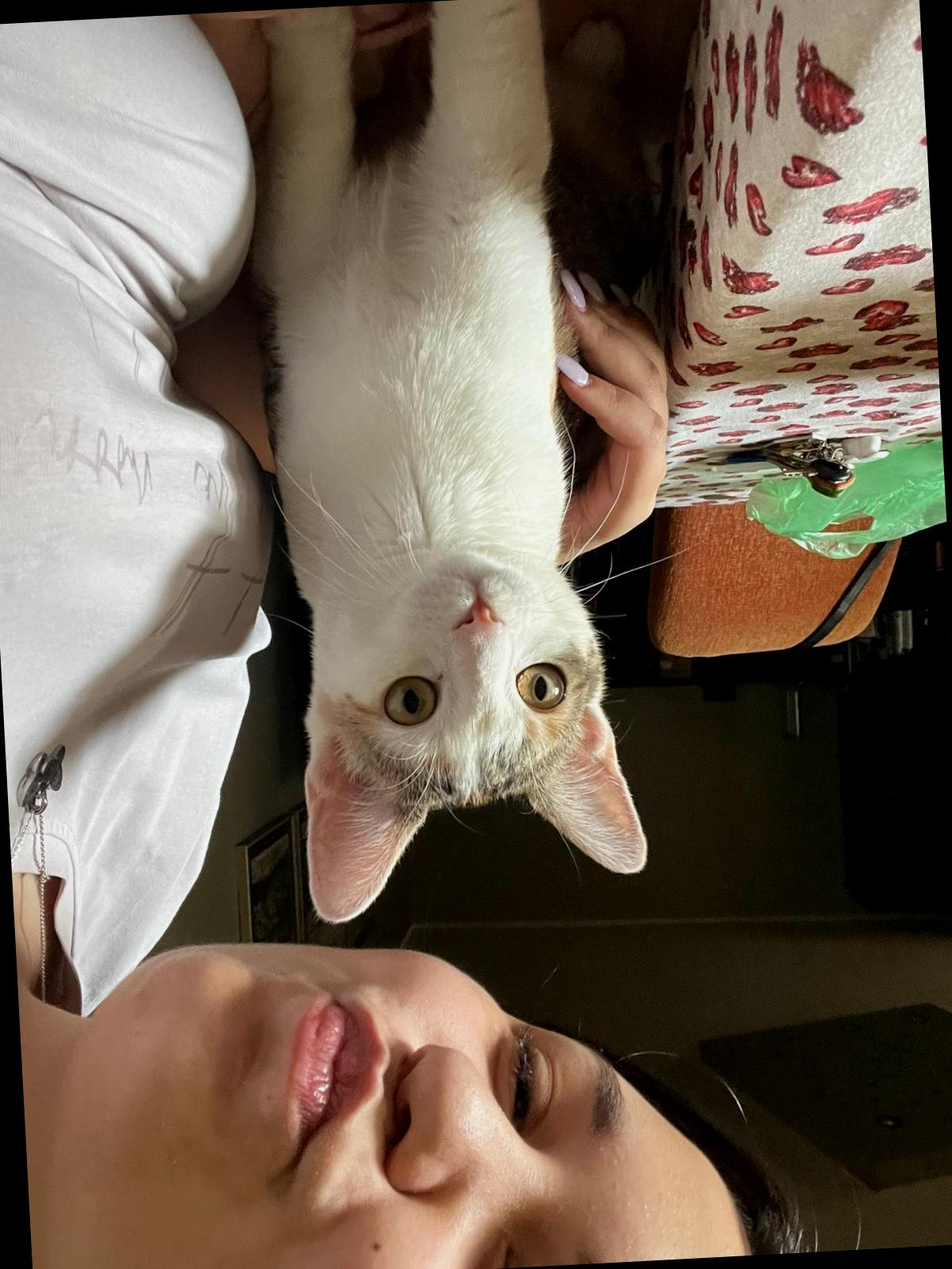macka: (232, 0, 657, 928)
